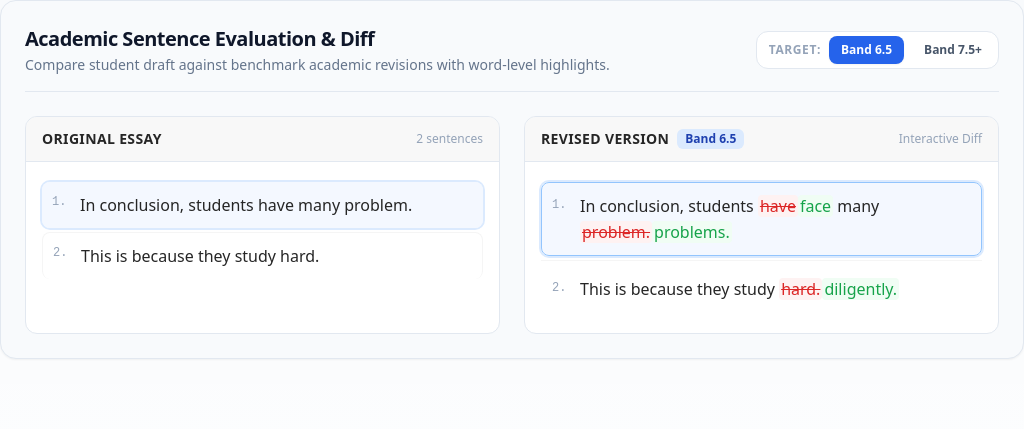
Test case: SideBySideView › renders two columns for desktop and toggles between Band 6.5 and Band 7.5+
Check: the text "Original Essay" is shown, box [42,129,162,149]
Check: the text "Revised Version" is shown, box [541,129,669,149]
Switch to Band 7.5+
Click the button "Band 7.5+". click: (953, 50)
box: [912,36,994,64]
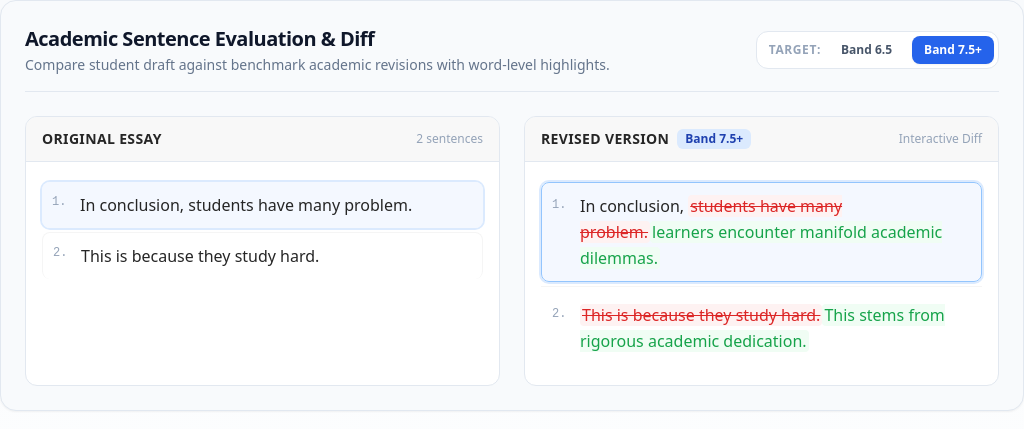
Check: the text "learners encounter manifold academic dilemmas." is shown, box [580,221,942,269]
